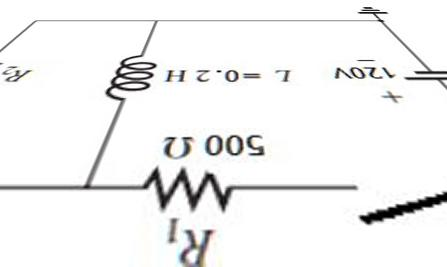inductor: (97, 44, 167, 110)
